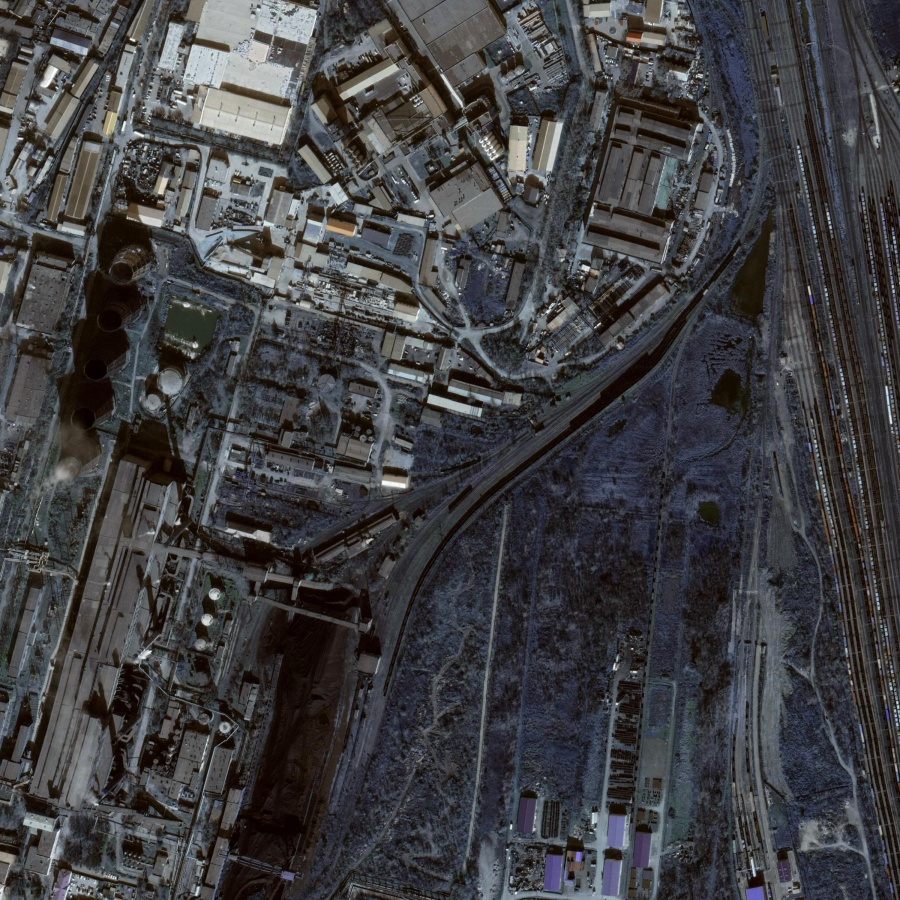PowerPlant: (25, 196, 195, 535)
